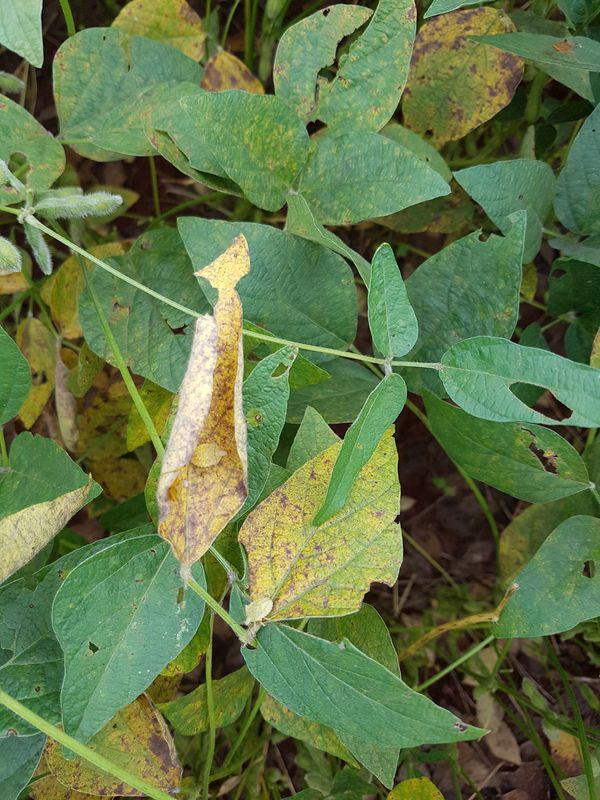Euschistus_heros_ninfa: (185, 434, 235, 477), (235, 589, 282, 633)
